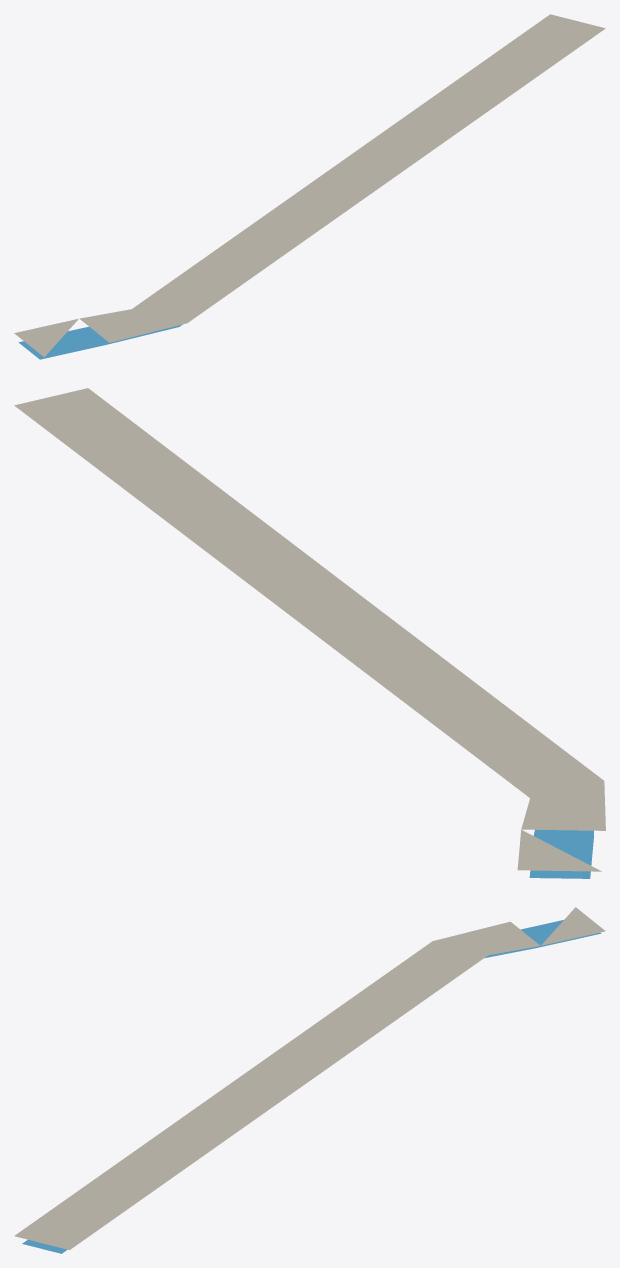
3 views of the same model, one above another, from view 1: azimuth 90°, elevation 25°; view 2: azimuth 150°, elevation 25°; view 3: azimuth 270°, elevation 25° (orthographic). The views are drawn at different scales.
Visible parts, largest first — view 1: estructura_terreno, estructura_agua; view 2: estructura_terreno, estructura_agua; view 3: estructura_terreno, estructura_agua.
Part boxes in pixels (x1=…): estructura_terreno: x1=14, y1=14, x2=605, y2=357; estructura_agua: x1=18, y1=324, x2=182, y2=359; estructura_terreno: x1=14, y1=388, x2=605, y2=871; estructura_agua: x1=529, y1=829, x2=593, y2=878; estructura_terreno: x1=14, y1=907, x2=605, y2=1249; estructura_agua: x1=22, y1=920, x2=601, y2=1253.
Bounding box in the file's own units: 52.52 × 0.41 × 38.29.
